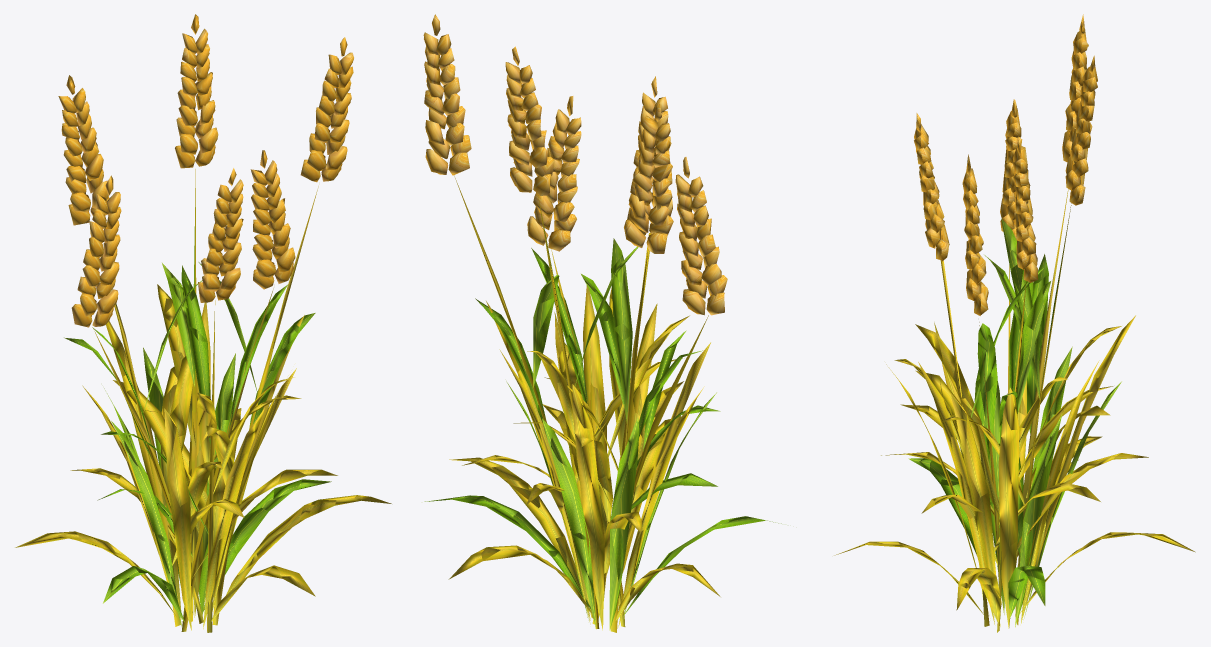
Rendered from NP_Wheat_Ready_LOD1.fbx.
3 renders of one model, left to right at view 1: azimuth 30°, elevation 25°; view 2: azimuth 150°, elevation 25°; view 3: azimuth 270°, elevation 25°, orthographic. The views are drawn at different scales.
Parts seen in each view (by area): view 1: NP_Wheat_Ready; view 2: NP_Wheat_Ready; view 3: NP_Wheat_Ready.
Boxes of the visible parts, x1,y1,x2,y2 form: NP_Wheat_Ready: (15,14,391,632); NP_Wheat_Ready: (423,14,781,632); NP_Wheat_Ready: (834,14,1195,632).
Size of the model in its own units: 82.54 by 141 by 79.06.
